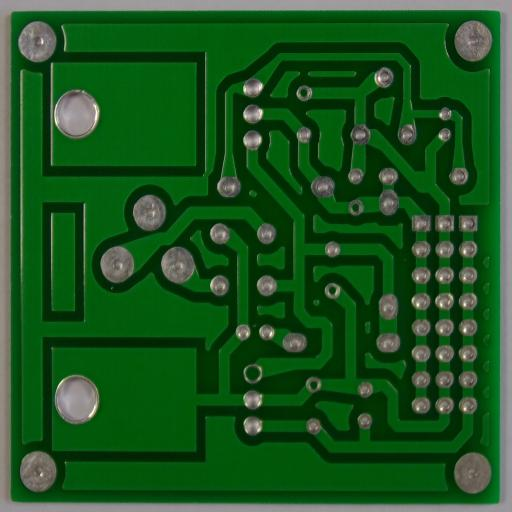missing_hole: (242, 362, 264, 385), (348, 199, 364, 217), (306, 376, 322, 394), (324, 282, 340, 299), (297, 85, 311, 101)
